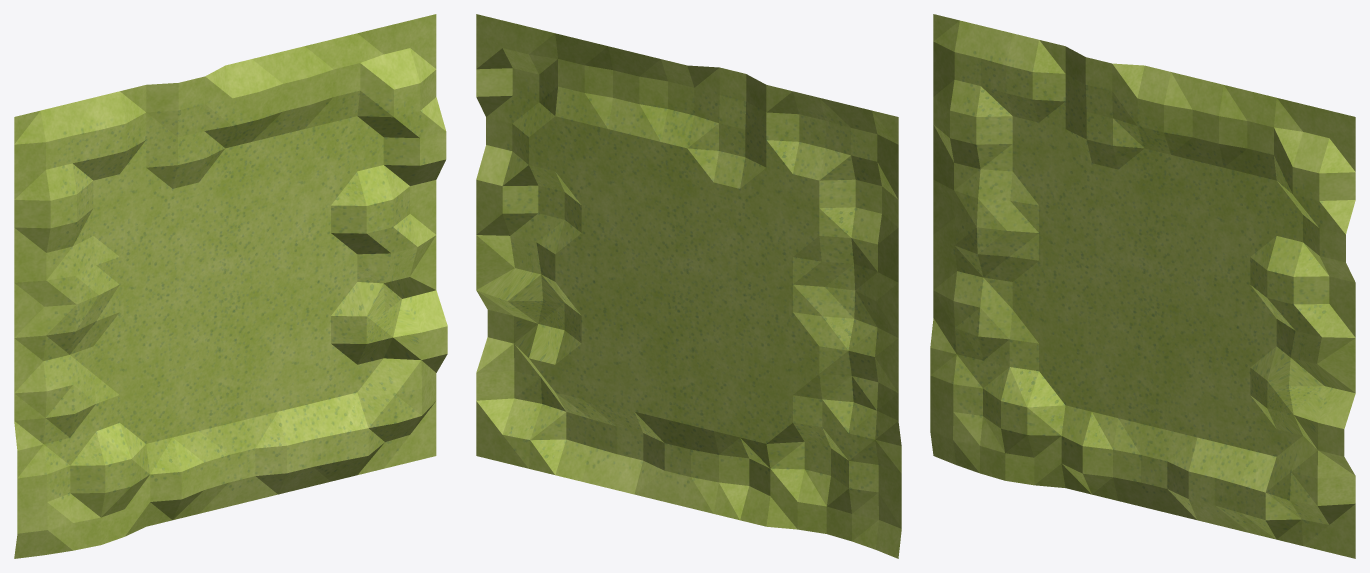
The model's file is Ground.obj.
3 renders of one model, left to right at view 1: azimuth 30°, elevation 25°; view 2: azimuth 150°, elevation 25°; view 3: azimuth 330°, elevation 25°, orthographic.
Parts seen in each view (by area): view 1: 平面; view 2: 平面; view 3: 平面.
Part boxes in pixels (x1,y1,x2,y2): 平面: (14,14,447,558); 平面: (476,14,901,558); 平面: (930,14,1355,558).
Size of the model in its own units: 20 by 20 by 1.21.
Materials: 1 (1 with a texture image).
